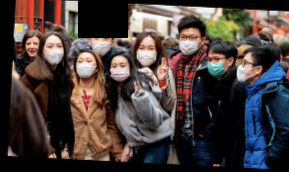with_mask: (178, 31, 201, 56), (90, 31, 112, 56), (108, 59, 131, 82), (234, 56, 253, 83), (205, 54, 227, 77), (42, 40, 63, 64), (135, 42, 156, 66), (75, 55, 96, 77)
without_mask: (24, 39, 40, 56)
